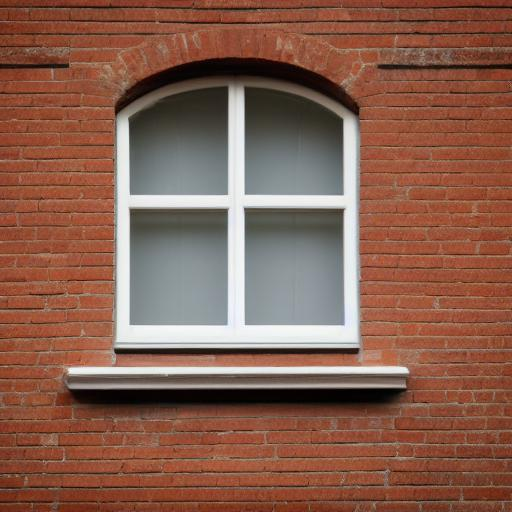Window: (66, 30, 414, 397)
